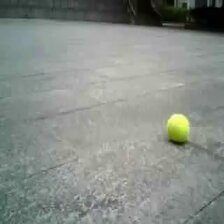tennis: (167, 114, 189, 141)
